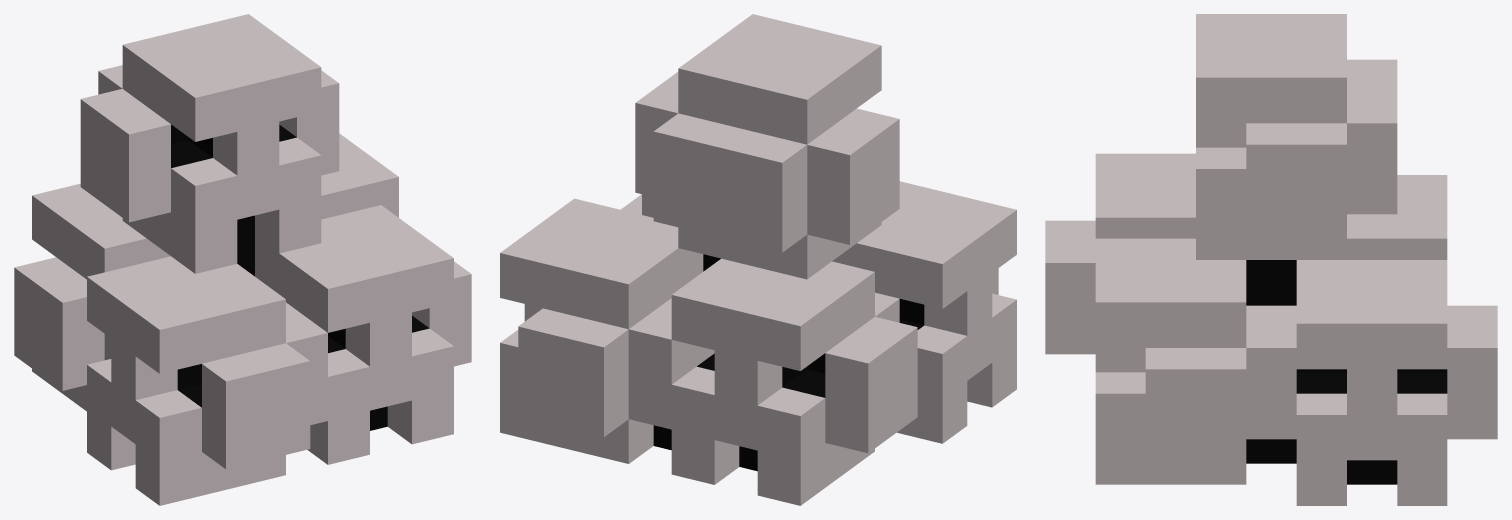
File: church-51-skullpile.glb
The picture shows the model from 3 angles, left to right: view 1: azimuth 30°, elevation 25°; view 2: azimuth 150°, elevation 25°; view 3: azimuth 270°, elevation 25°; orthographic projection. The views are drawn at different scales.
Parts seen in each view (by area): view 1: skullpile; view 2: skullpile; view 3: skullpile.
Part boxes in pixels (x1,y1,x2,y2): skullpile: (14,14,471,505); skullpile: (500,14,1016,505); skullpile: (1045,14,1497,505).
Size of the model in its own units: 0.8 by 0.8 by 0.9.
Materials: 1 (1 with a texture image).
